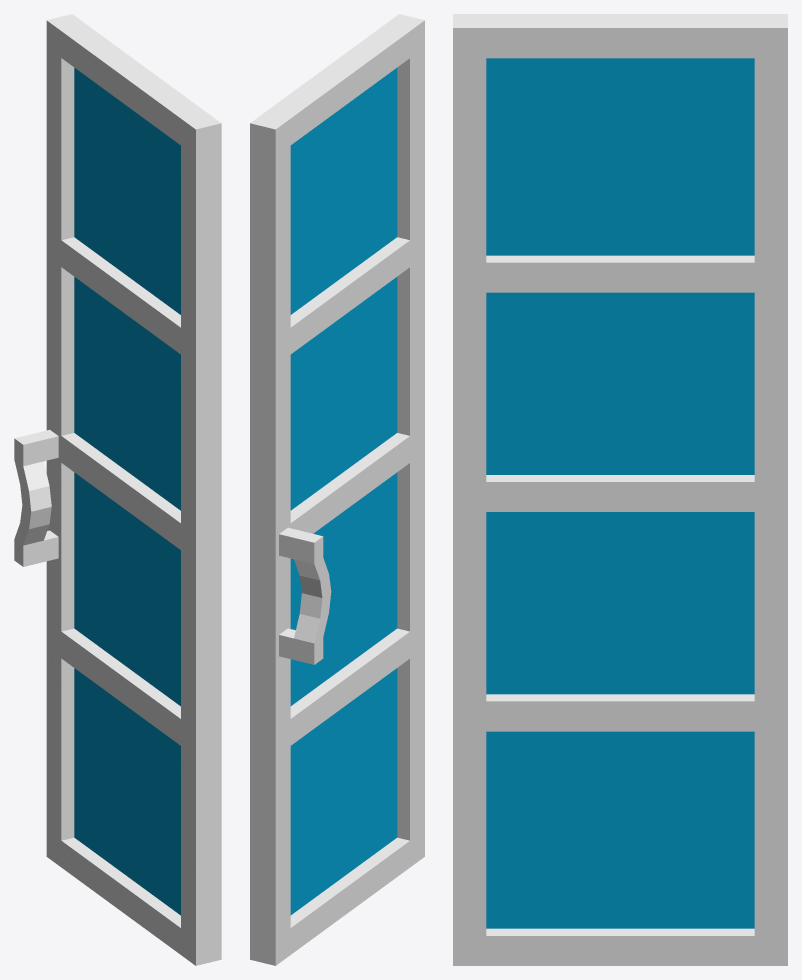
The model's file is GlassDoors_Mesh.fbx.
3 renders of one model, left to right at view 1: azimuth 30°, elevation 25°; view 2: azimuth 150°, elevation 25°; view 3: azimuth 270°, elevation 25°, orthographic. The views are drawn at different scales.
Parts seen in each view (by area): view 1: GlassDoors; view 2: GlassDoors; view 3: GlassDoors.
Boxes of the visible parts, bbox=[...] form: GlassDoors: bbox=[14, 14, 221, 965]; GlassDoors: bbox=[250, 14, 424, 965]; GlassDoors: bbox=[453, 14, 787, 965].
Size of the model in its own units: 23.85 by 312 by 101.
